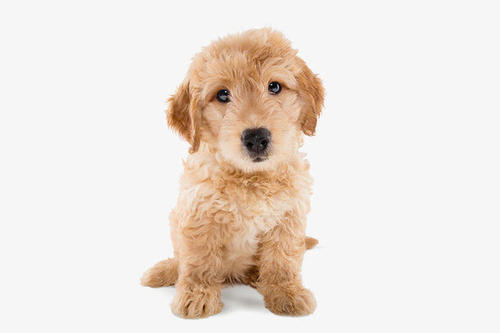dog: (136, 25, 331, 323)
